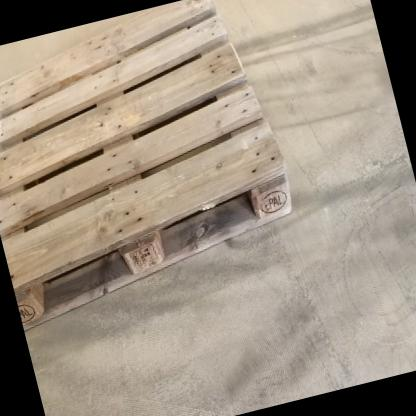BoxFace: (0, 0, 299, 340)
